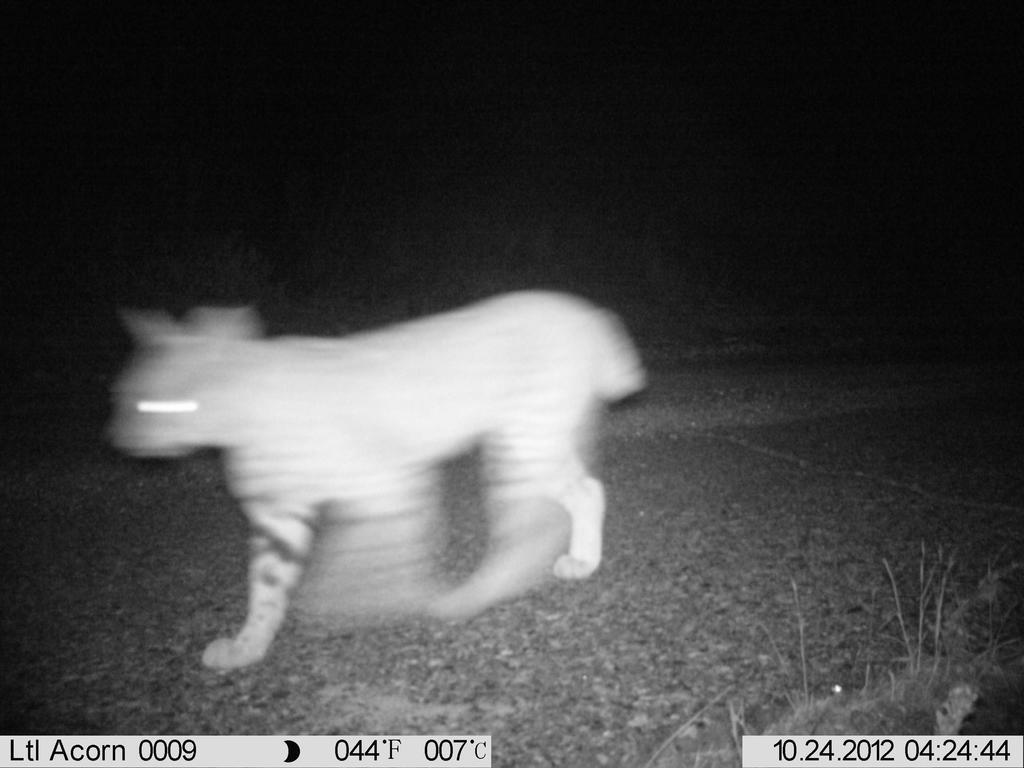bobcat: (91, 276, 653, 677)
